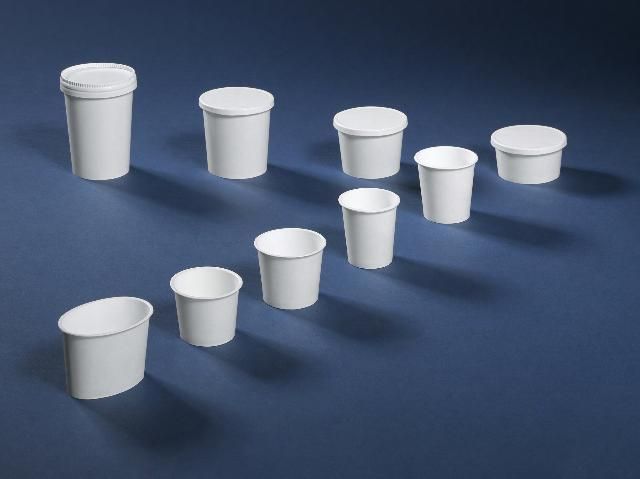yogurt: (59, 61, 137, 180), (198, 86, 274, 180)
